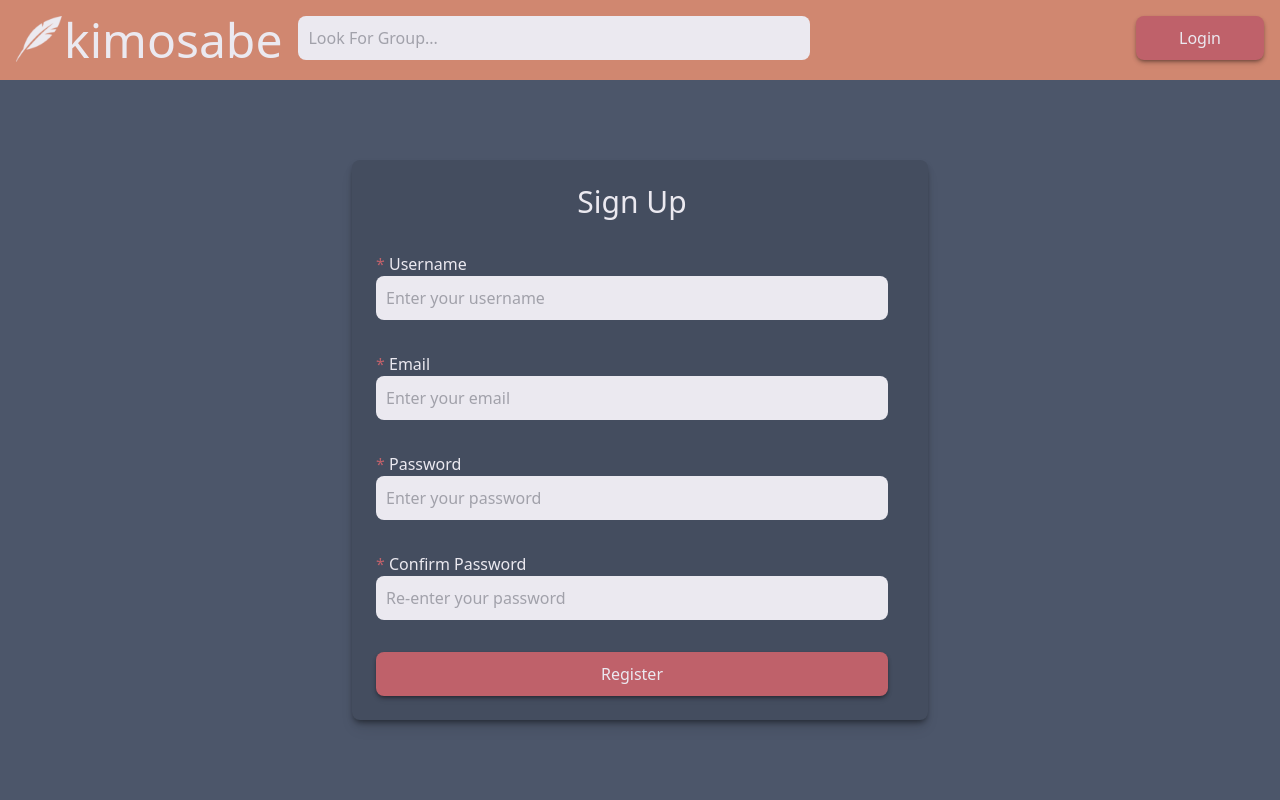
Test case: pages/register.js › when register button is clicked › all fields valid but username is taken › error should be returned and displayed
Step 1. Type "user" into the field with test id "rp-username" → {"x": 632, "y": 298}, box 376,276 -> 888,320
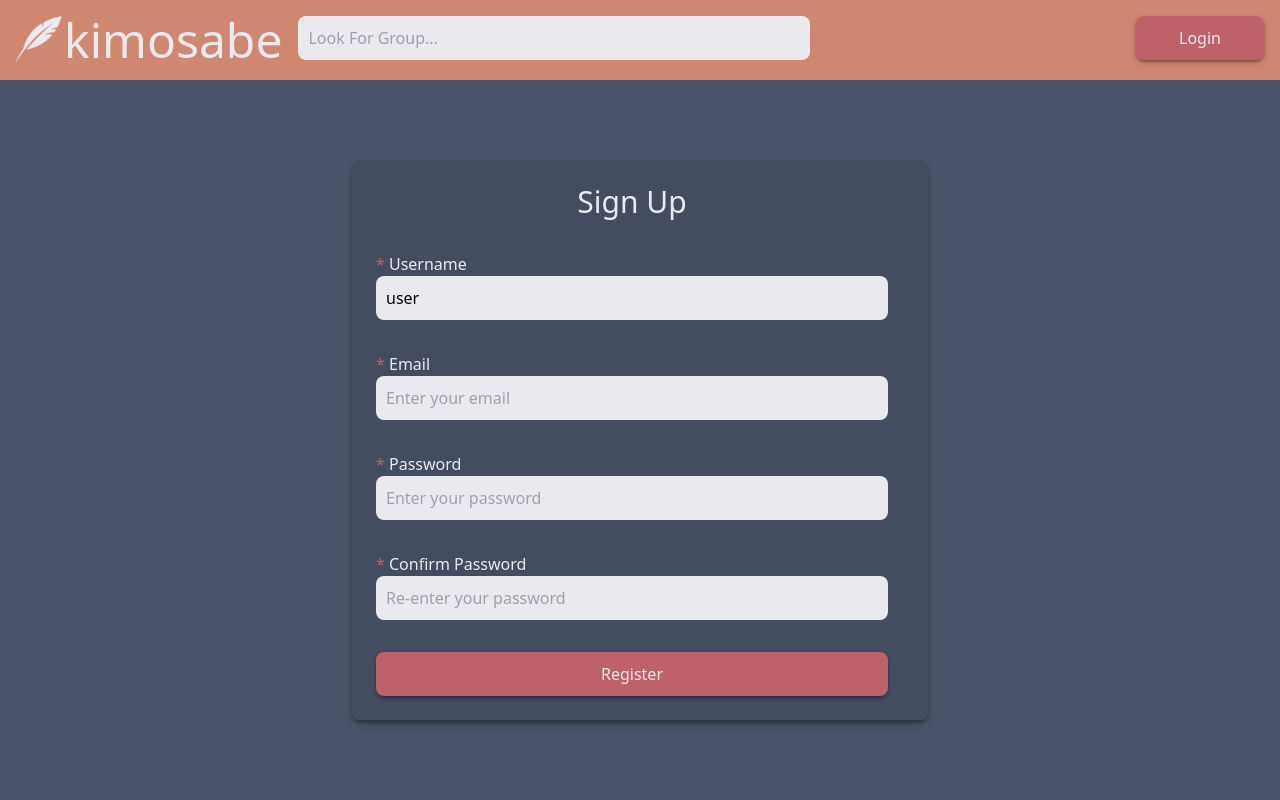
Step 2. Type "pass" into the password field with test id "rp-password" → {"x": 632, "y": 498}, box 376,476 -> 888,520
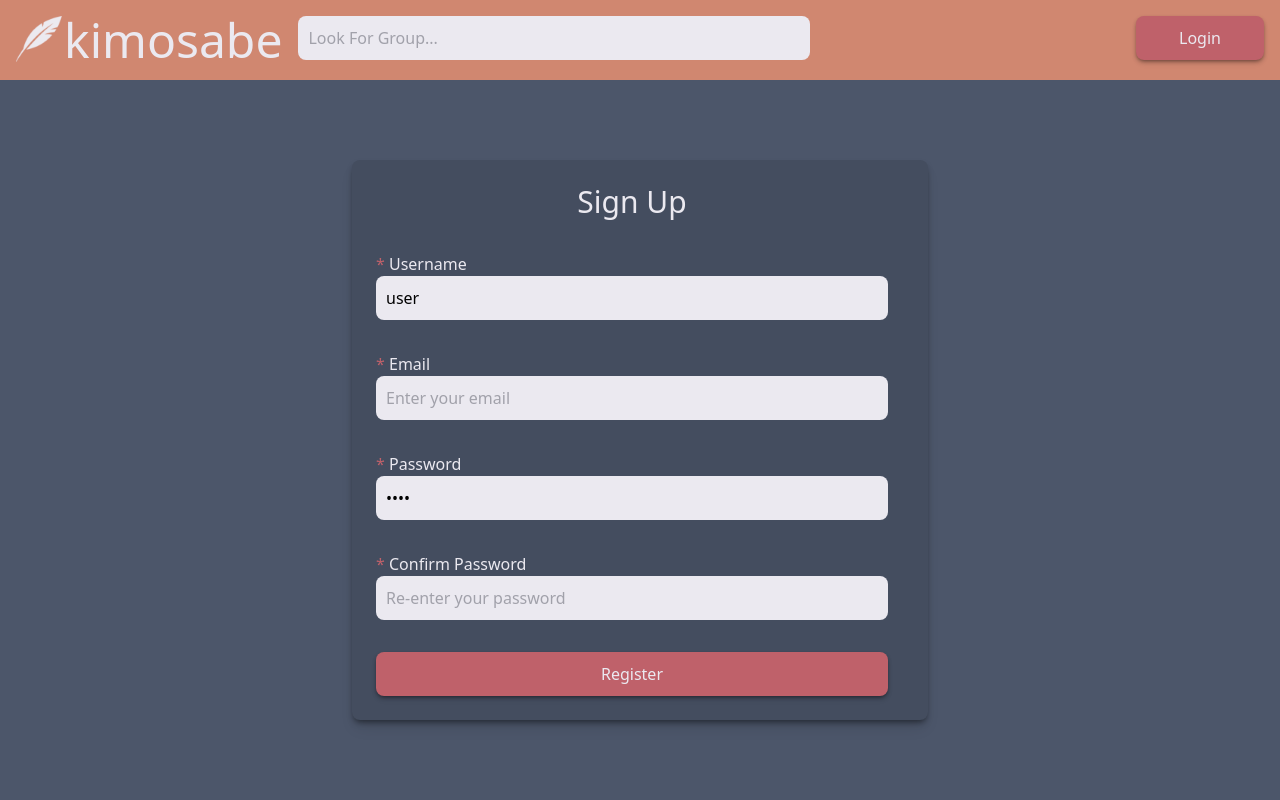
Step 3. Type "pass" into the password field with test id "rp-cpassword" → {"x": 632, "y": 598}, box 376,576 -> 888,620
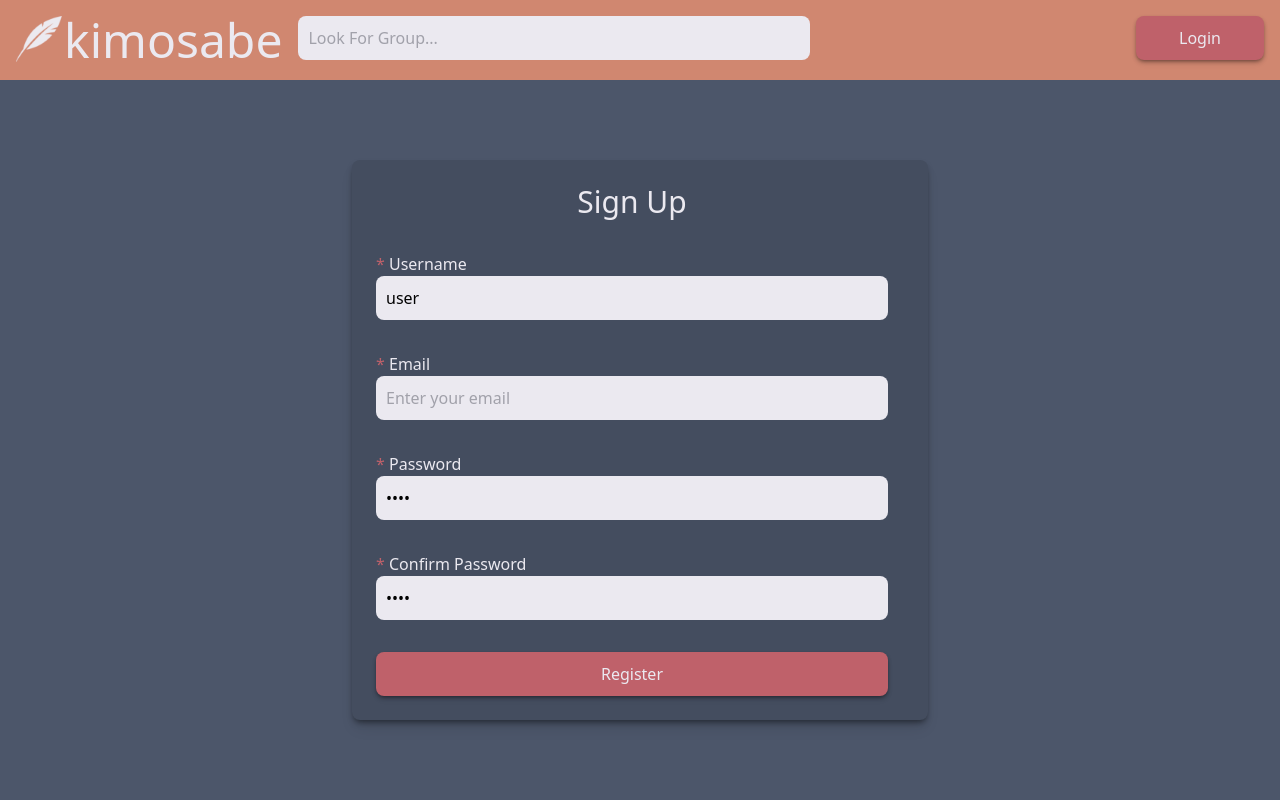
Step 4. Click the button with test id "rp-register-button" → {"x": 632, "y": 674}, box 376,652 -> 888,696
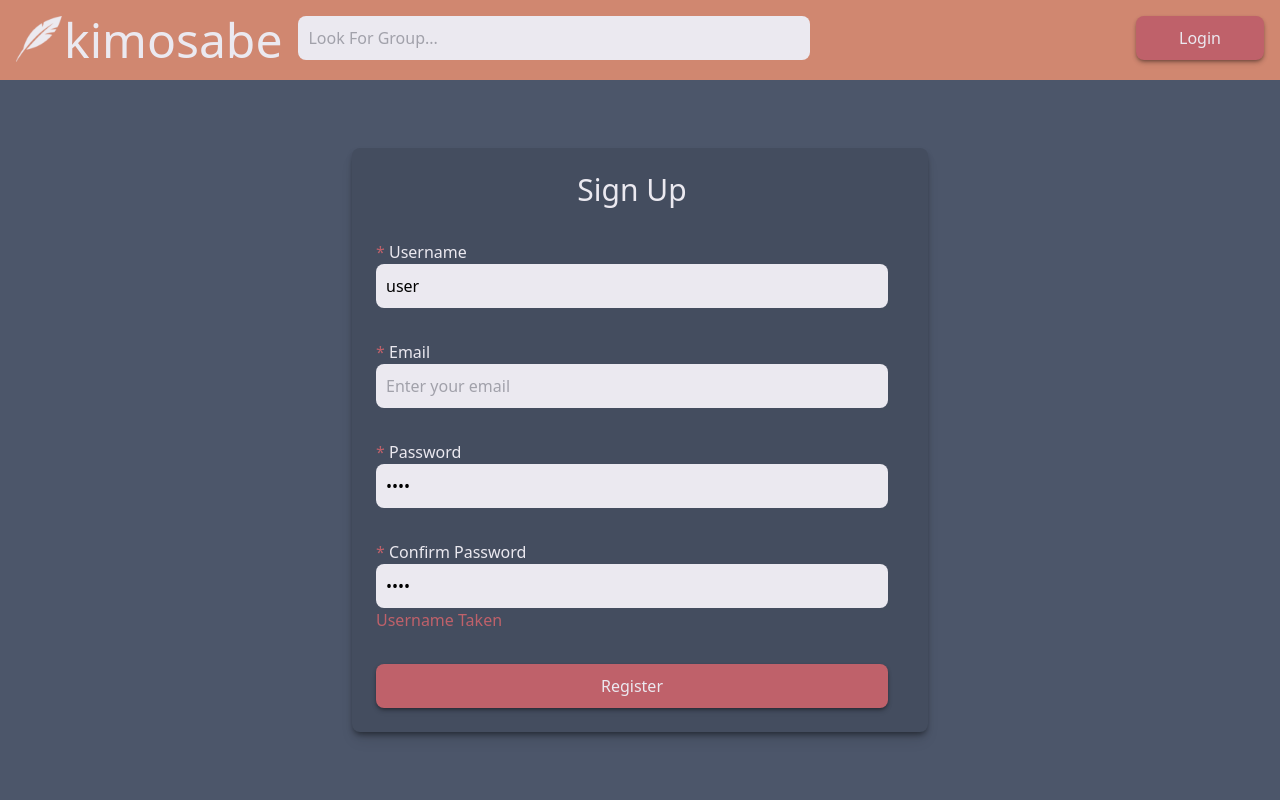
Expected: the text with test id "rp-cpassword-error" reads "Username Taken", 376,609 -> 502,631
